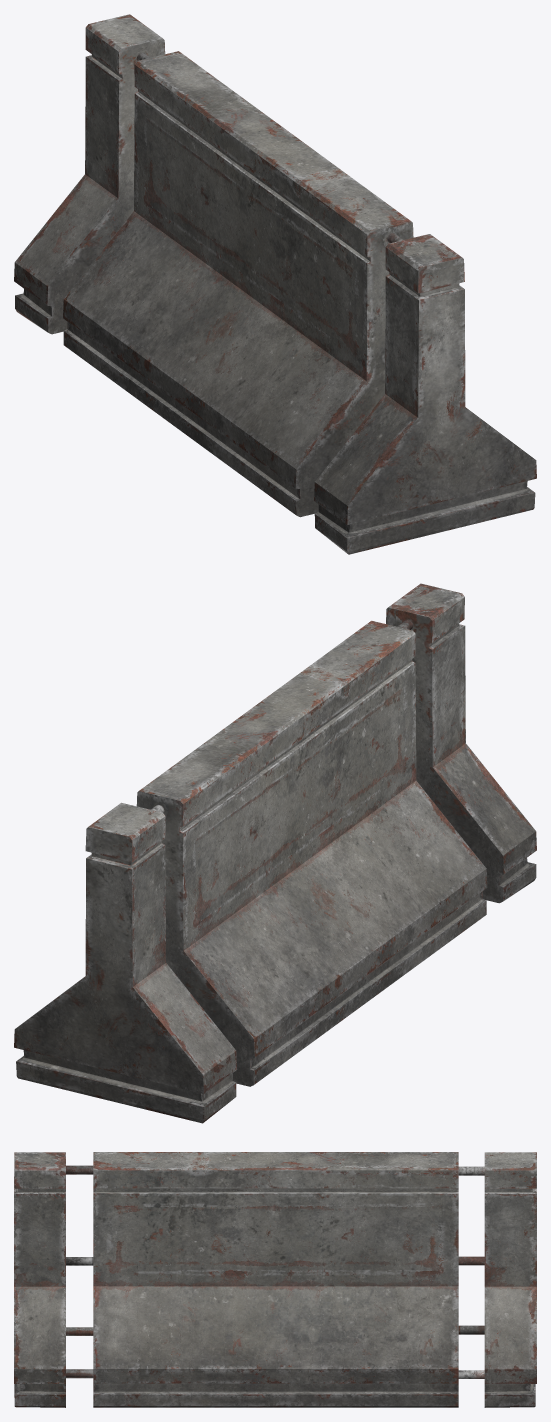
The model's file is barricade.fbx.
3 views of the same model, one above another, from view 1: azimuth 30°, elevation 25°; view 2: azimuth 150°, elevation 25°; view 3: azimuth 270°, elevation 25° (orthographic). The views are drawn at different scales.
Visible parts, largest first — view 1: Plane.011; view 2: Plane.011; view 3: Plane.011.
Part boxes in pixels (x1,y1,x2,y2): Plane.011: [14, 14, 536, 554]; Plane.011: [14, 583, 536, 1123]; Plane.011: [14, 1152, 536, 1407].
Size of the model in its own units: 98.92 by 32.71 by 44.21.
Materials: 1 (1 with a texture image).
